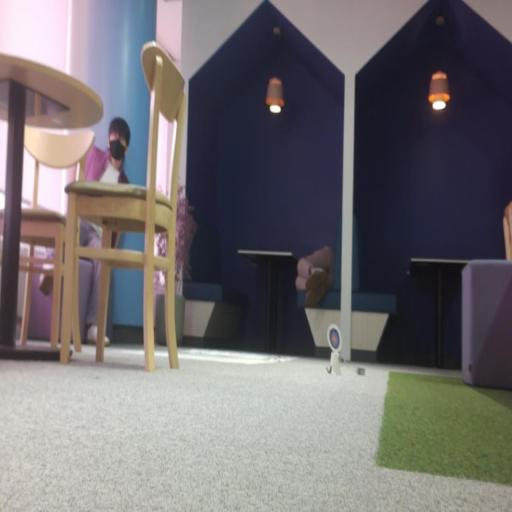target: (328, 324, 341, 353)
